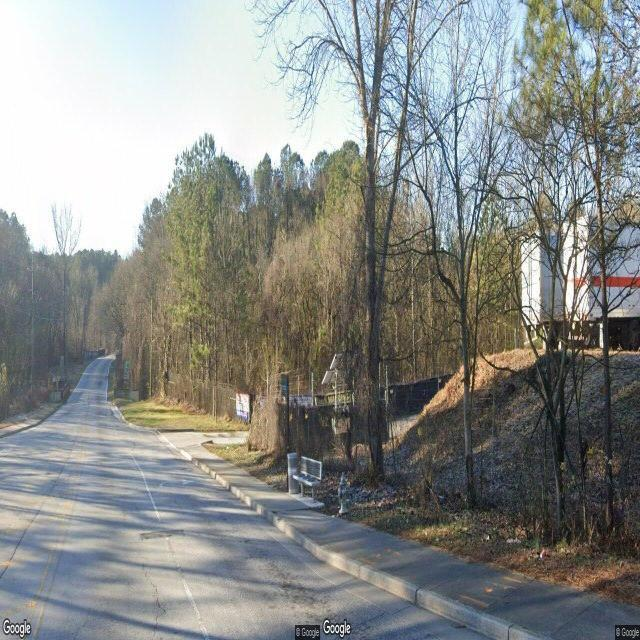seating: (292, 456, 323, 504)
trash_can: (286, 452, 300, 494)
